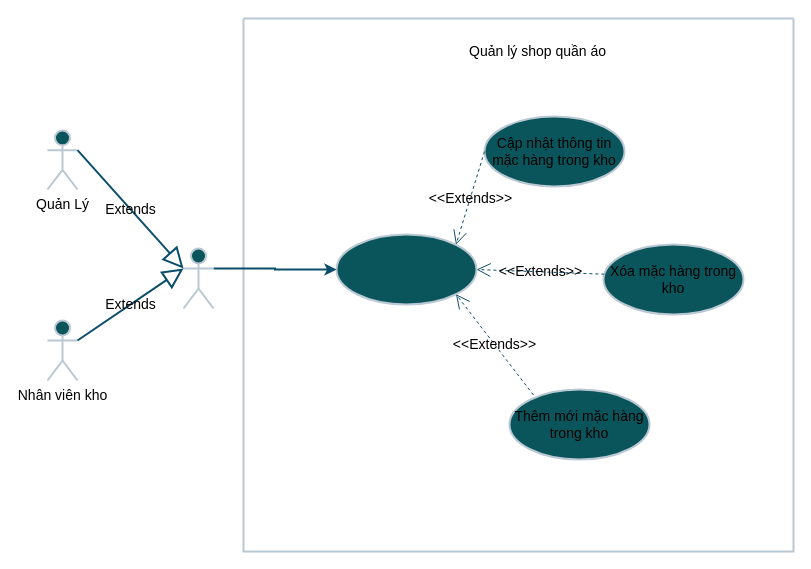
This 811x569 diagram has some shape labels left out. Here are the shapes that lost their labels. From the top down, the centre of each, then its label:
pixel 198 278: User
pixel 406 269: Quản lý kho hàng
